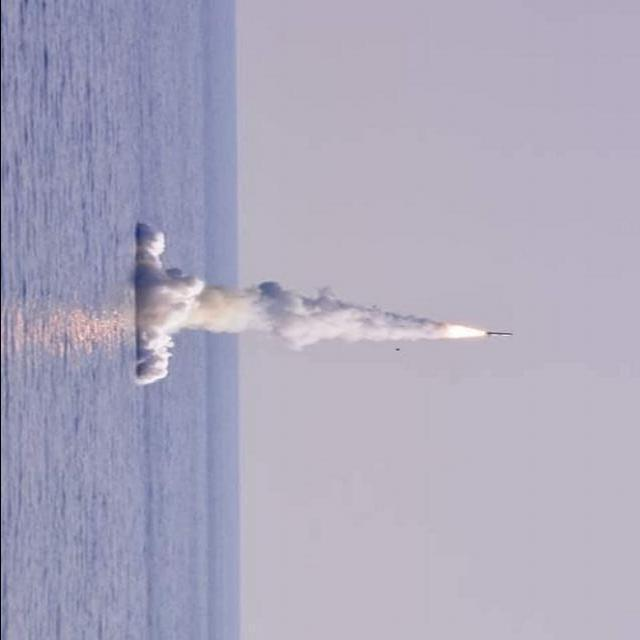missile: (482, 325, 518, 347)
